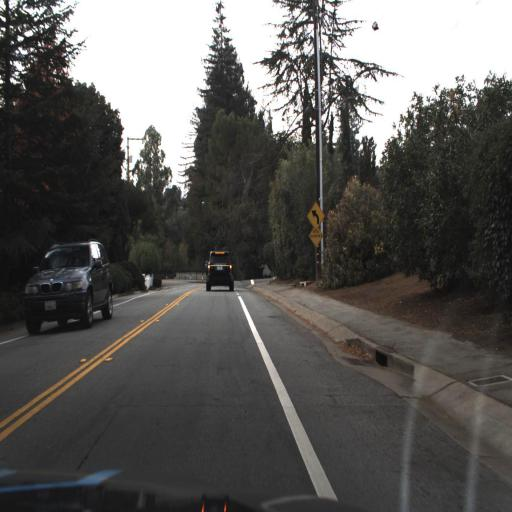car: (23, 238, 114, 338), (206, 249, 235, 295)
